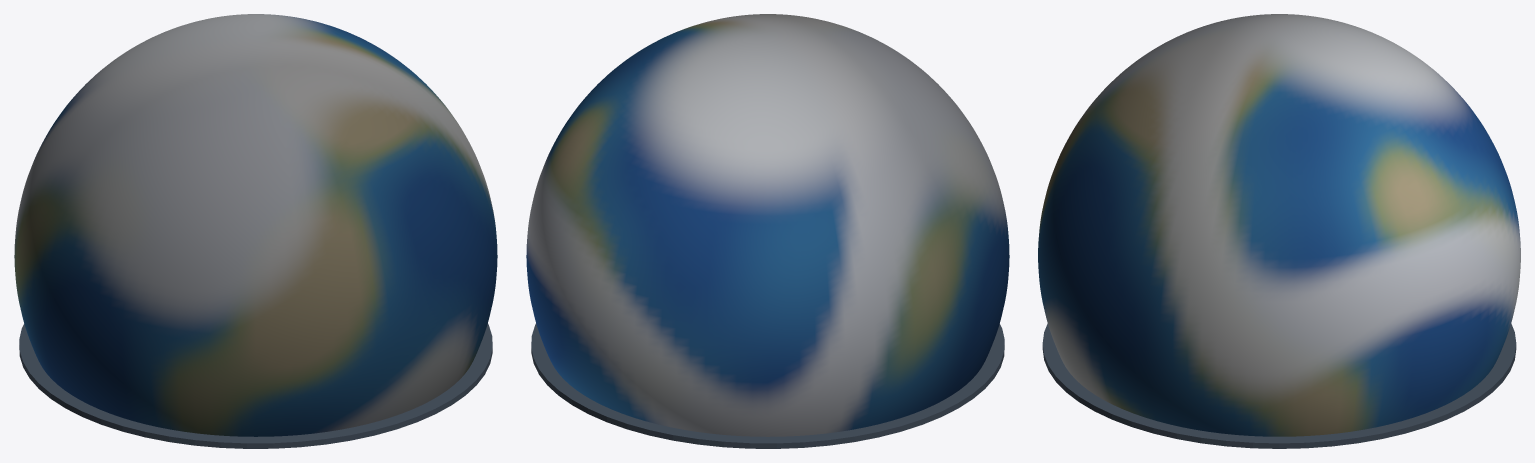
File: vegas_sphere.glb
3 views of the same model, side by side, from view 1: azimuth 30°, elevation 25°; view 2: azimuth 150°, elevation 25°; view 3: azimuth 270°, elevation 25° (orthographic).
Visible parts, largest first — view 1: sphere, base; view 2: sphere, base; view 3: sphere, base.
Boxes of the visible parts, x1,y1,x2,y2 form: sphere: (14,14,497,436); base: (19,323,492,448); sphere: (526,14,1009,436); base: (531,323,1004,448); sphere: (1038,14,1520,436); base: (1042,323,1516,448).
Size of the model in its own units: 157 by 112 by 157.
